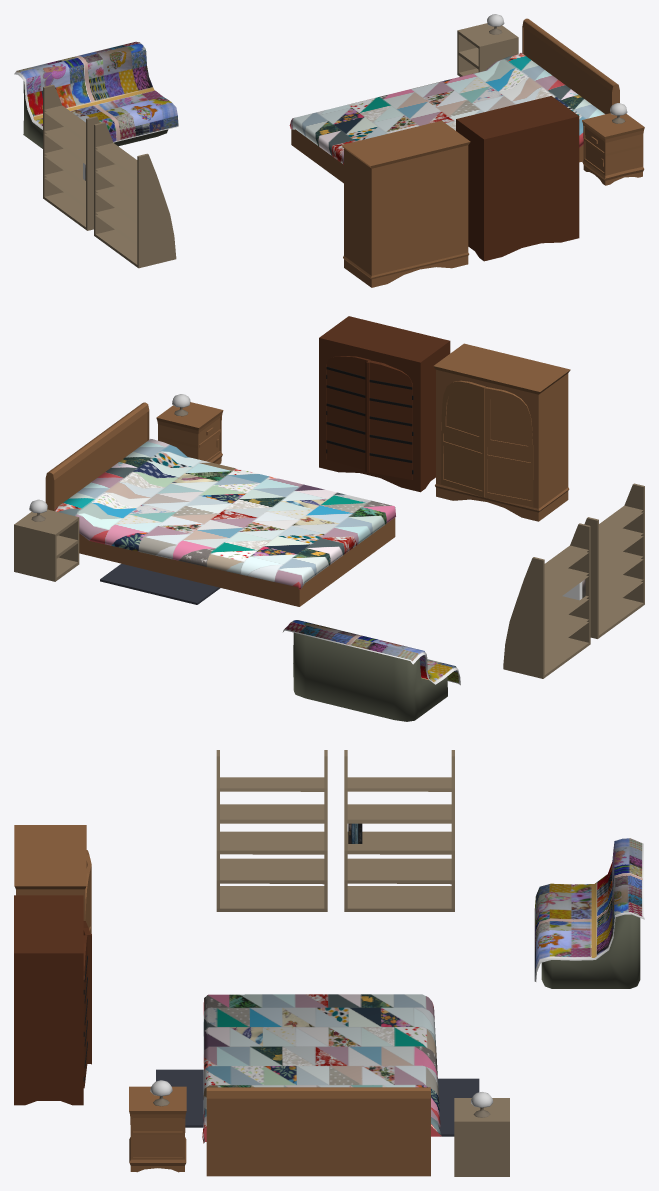
File: mobilier_chambre_2.fbx
3 renders of one model, top to bottom at view 1: azimuth 30°, elevation 25°; view 2: azimuth 150°, elevation 25°; view 3: azimuth 270°, elevation 25°, orthographic. The views are drawn at different scales.
Visible parts, largest first — view 1: Cube.031, Cube.030, Plane.100, Plane.101, Cube.026, Cube.027, Cube.025, Cube.029, etagere_cube.001, Cube.028; view 2: Plane.100, Cube.031, Cube.030, Cube.025, Cube.027, Cube.028, Cube.026, etagere_cube.001, Cube.029, Plane.101, Plane.103; view 3: Plane.100, Cube.025, Cube.030, Cube.026, Cube.027, Plane.101, Cube.031, Cube.029, Cube.028, etagere_cube.001, Plane.102, Plane.103.
Part boxes in pixels (left/top/right/bottom): Cube.031: left=341, top=120, right=470, bottom=287; Cube.030: left=456, top=96, right=579, bottom=261; Plane.100: left=289, top=53, right=604, bottom=164; Plane.101: left=14, top=41, right=178, bottom=142; Cube.026: left=94, top=122, right=176, bottom=268; Cube.027: left=43, top=84, right=99, bottom=230; Cube.025: left=291, top=18, right=619, bottom=183; Cube.029: left=582, top=113, right=644, bottom=185; etagere_cube.001: left=457, top=23, right=518, bottom=76; Cube.028: left=23, top=81, right=168, bottom=148; Plane.100: left=55, top=439, right=395, bottom=589; Cube.031: left=433, top=343, right=570, bottom=521; Cube.030: left=319, top=316, right=450, bottom=492; Cube.025: left=45, top=402, right=395, bottom=606; Cube.027: left=503, top=523, right=590, bottom=678; Cube.028: left=293, top=632, right=447, bottom=721; Cube.026: left=584, top=483, right=644, bottom=638; etagere_cube.001: left=14, top=509, right=79, bottom=581; Cube.029: left=156, top=402, right=223, bottom=464; Plane.101: left=282, top=620, right=460, bottom=685; Plane.103: left=100, top=563, right=220, bottom=604; Plane.100: left=202, top=994, right=441, bottom=1143; Cube.025: left=206, top=1087, right=430, bottom=1176; Cube.030: left=14, top=895, right=91, bottom=1105; Cube.026: left=216, top=750, right=327, bottom=911; Cube.027: left=344, top=750, right=454, bottom=911; Plane.101: left=534, top=838, right=644, bottom=981; Cube.031: left=14, top=825, right=91, bottom=933; Cube.029: left=129, top=1086, right=186, bottom=1172; Cube.028: left=541, top=914, right=640, bottom=988; etagere_cube.001: left=454, top=1098, right=509, bottom=1176; Plane.102: left=156, top=1069, right=203, bottom=1127; Plane.103: left=438, top=1078, right=479, bottom=1136.
Size of the model in its own units: 2537 by 635 by 2330.
